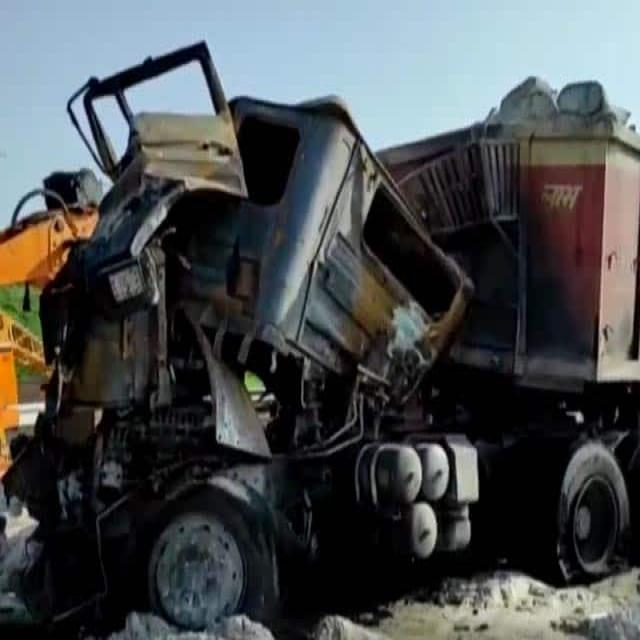accident: (5, 43, 640, 628)
